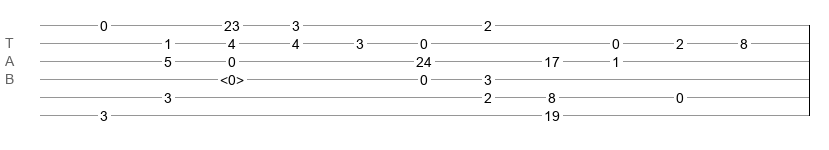0: (100, 18, 108, 28), (228, 54, 236, 64), (420, 36, 428, 46), (420, 72, 428, 82), (612, 36, 620, 46), (676, 90, 684, 100)
1: (164, 36, 172, 46), (612, 54, 620, 64)
17: (544, 54, 560, 64)
19: (544, 108, 560, 118)
2: (484, 18, 492, 28), (484, 90, 492, 100), (676, 36, 684, 46)
23: (224, 18, 240, 28)
24: (416, 54, 432, 64)
3: (100, 108, 108, 118), (164, 90, 172, 100), (292, 18, 300, 28), (356, 36, 364, 46), (484, 72, 492, 82)
4: (228, 36, 236, 46), (292, 36, 300, 46)
5: (164, 54, 172, 64)
8: (548, 90, 556, 100), (740, 36, 748, 46)
harmonic: (220, 72, 244, 82)
